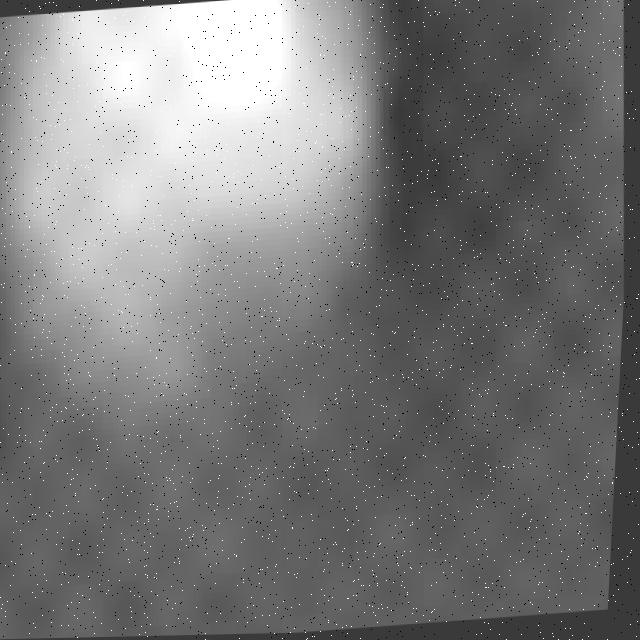person: (1, 1, 392, 432)
